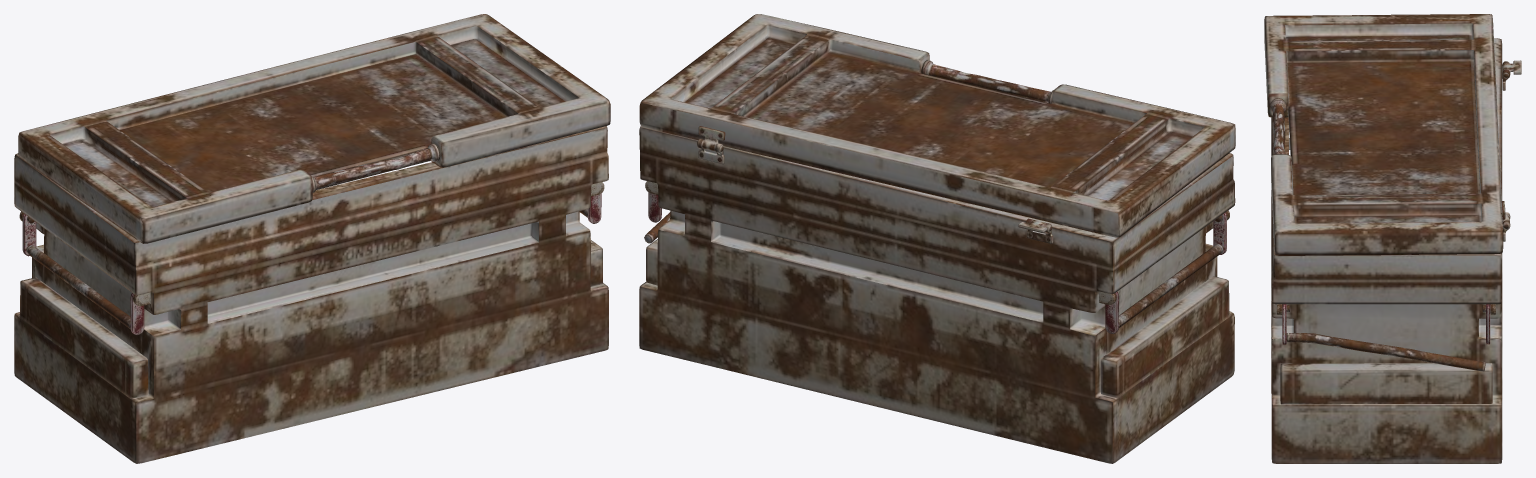
Rendered from metal_crate_b.glb.
The picture shows the model from 3 angles, left to right: view 1: azimuth 30°, elevation 25°; view 2: azimuth 150°, elevation 25°; view 3: azimuth 270°, elevation 25°; orthographic projection. The views are drawn at different scales.
Parts seen in each view (by area): view 1: metal_crate_b_LOD0; view 2: metal_crate_b_LOD0; view 3: metal_crate_b_LOD0.
Part boxes in pixels (x1,y1,x2,y2): metal_crate_b_LOD0: (14,14,610,463); metal_crate_b_LOD0: (639,14,1235,463); metal_crate_b_LOD0: (1264,14,1521,463).
Size of what is drawn, in the model's own units: 1.51 by 0.7498 by 0.749.
Materials: 1 (1 with a texture image).
